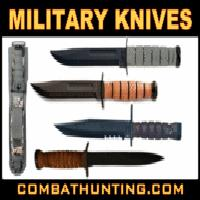knife: (46, 108, 190, 146), (29, 75, 166, 109), (30, 142, 167, 176), (43, 40, 185, 70)
